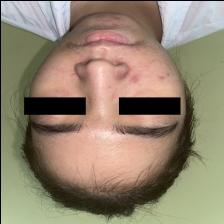Psoriasis vulgaris: (118, 57, 142, 85)
